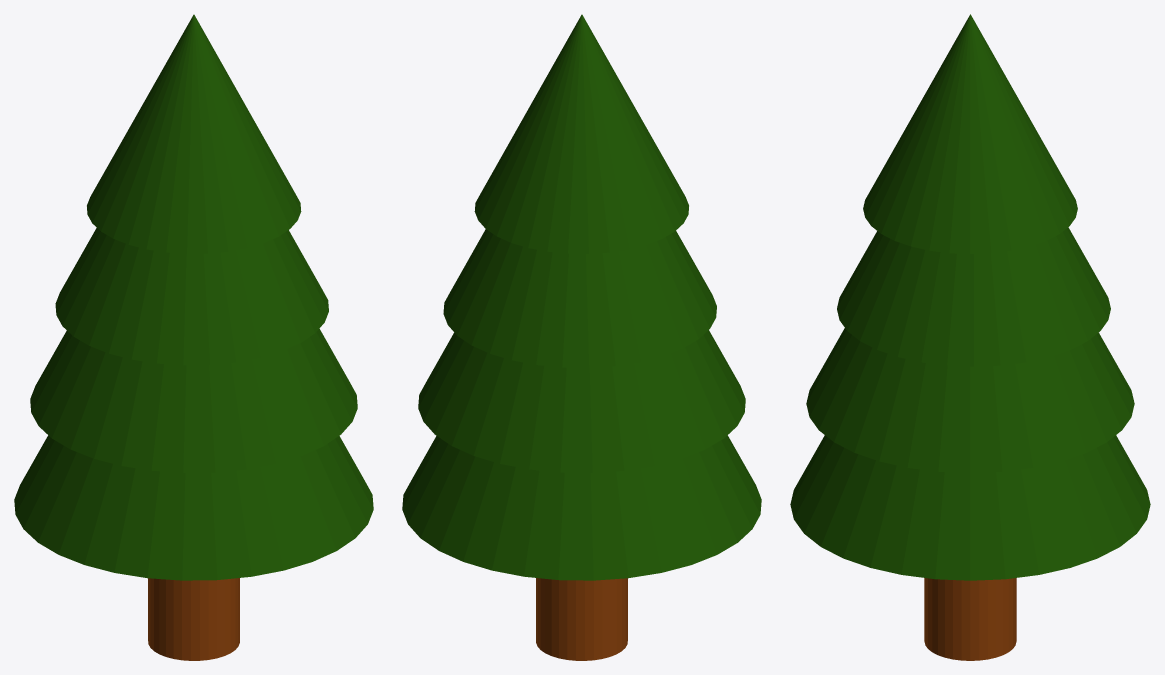
Rendered from foresttree.glb.
3 views of the same model, side by side, from view 1: azimuth 30°, elevation 25°; view 2: azimuth 150°, elevation 25°; view 3: azimuth 270°, elevation 25° (orthographic).
Parts seen in each view (by area): view 1: Forest_Tree; view 2: Forest_Tree; view 3: Forest_Tree.
Boxes of the visible parts, x1,y1,x2,y2 form: Forest_Tree: (14, 14, 373, 660); Forest_Tree: (402, 14, 761, 660); Forest_Tree: (790, 14, 1150, 660).
Bounding box in the file's own units: 1.43 × 2.75 × 1.43.
